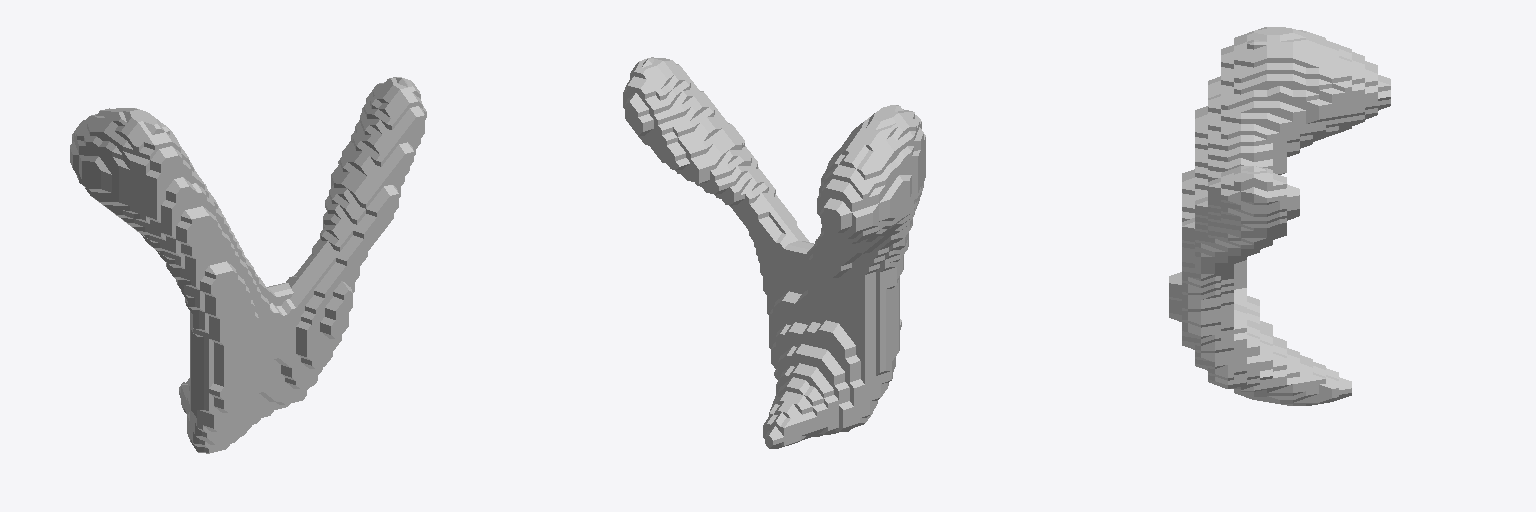
Rendered from CorpusColl.obj.
3 views of the same model, side by side, from view 1: azimuth 30°, elevation 25°; view 2: azimuth 150°, elevation 25°; view 3: azimuth 270°, elevation 25° (orthographic).
Parts seen in each view (by area): view 1: grp1; view 2: grp1; view 3: grp1.
Part boxes in pixels (bbox=[...]): grp1: bbox=[70, 77, 426, 453]; grp1: bbox=[623, 57, 925, 448]; grp1: bbox=[1169, 27, 1390, 405].
Size of the model in its own units: 68 by 74 by 44.2.